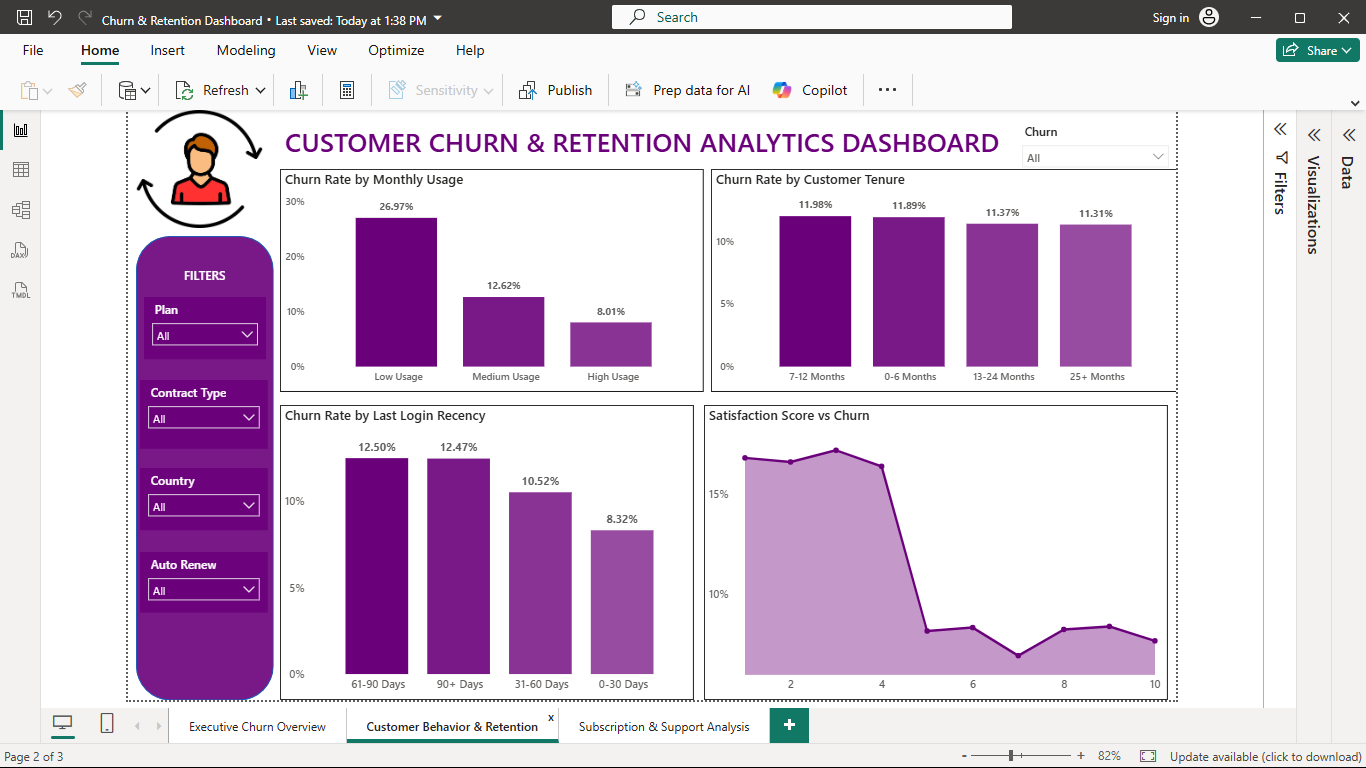

The page's visual inventory and layout, read from the dashboard file:
{"tool":"powerbi","page":{"name":"Customer Behavior & Retention","canvas":[1280,720],"ordinal":1},"visuals":[{"type":"image","box":[9.3,0,154.7,144],"z":0},{"type":"shape","box":[9.3,153.3,168,566.7],"z":1000},{"type":"slicer","fields":{"Values":["customers_cleaned.Plan"]},"box":[19.3,228.5,148.6,75.7],"z":2000},{"type":"slicer","fields":{"Values":["subscriptions_cleaned.ContractType"]},"box":[15.1,328.9,155.5,84],"z":3000},{"type":"slicer","fields":{"Values":["customers_cleaned.Country"]},"box":[15.1,436.3,155.5,75.7],"z":4000},{"type":"slicer","fields":{"Values":["customers_cleaned.AutoRenew"]},"box":[15.1,539.5,155.5,74.3],"z":5000},{"type":"slicer","fields":{"Values":["customers_cleaned.Churn"]},"box":[1081.3,10.7,172,61.3],"z":6000},{"type":"textbox","box":[186.7,10.7,1093.3,61.3],"z":7000},{"type":"slicer","fields":{"Values":["customers_cleaned.Churn"]},"box":[1081.3,10.7,198.7,70.7],"z":14000},{"type":"clusteredColumnChart","title":"Churn Rate by Monthly Usage","fields":{"Category":["customers_cleaned.Usage Group"],"Y":["customers_cleaned.Churn Rate %"]},"box":[185.5,72,517.4,272.1],"z":14001},{"type":"clusteredColumnChart","title":"Churn Rate by Customer Tenure","fields":{"Category":["customers_cleaned.Tenure Group"],"Y":["customers_cleaned.Churn Rate %"]},"box":[711.5,72,568.7,272.1],"z":14002},{"type":"clusteredColumnChart","title":"Churn Rate by Last Login Recency","fields":{"Category":["customers_cleaned.Last Login Group"],"Y":["customers_cleaned.Churn Rate %"]},"box":[185,360.3,505,360.3],"z":14003},{"type":"lineChart","title":"Satisfaction Score vs Churn","fields":{"Category":["customers_cleaned.SatisfactionScore"],"Y":["customers_cleaned.Churn Rate %"]},"box":[702.6,360.3,566.3,360.3],"z":14004}]}

Visuals, with their boxes on the page's 1280x720 design canvas (x1, y1, x2, y2). These are canvas units, not pixel positions in the 1366x768 screenshot, which may show the page scaled, cropped or inside an application window:
image: pyautogui.locateOnScreen(9, 0, 164, 144)
shape: pyautogui.locateOnScreen(9, 153, 177, 720)
slicer - customers_cleaned.Plan: pyautogui.locateOnScreen(19, 228, 168, 304)
slicer - subscriptions_cleaned.ContractType: pyautogui.locateOnScreen(15, 329, 171, 413)
slicer - customers_cleaned.Country: pyautogui.locateOnScreen(15, 436, 171, 512)
slicer - customers_cleaned.AutoRenew: pyautogui.locateOnScreen(15, 540, 171, 614)
slicer - customers_cleaned.Churn: pyautogui.locateOnScreen(1081, 11, 1253, 72)
textbox: pyautogui.locateOnScreen(187, 11, 1280, 72)
slicer - customers_cleaned.Churn: pyautogui.locateOnScreen(1081, 11, 1280, 81)
"Churn Rate by Monthly Usage" clusteredColumnChart: pyautogui.locateOnScreen(186, 72, 703, 344)
"Churn Rate by Customer Tenure" clusteredColumnChart: pyautogui.locateOnScreen(712, 72, 1280, 344)
"Churn Rate by Last Login Recency" clusteredColumnChart: pyautogui.locateOnScreen(185, 360, 690, 721)
"Satisfaction Score vs Churn" lineChart: pyautogui.locateOnScreen(703, 360, 1269, 721)
